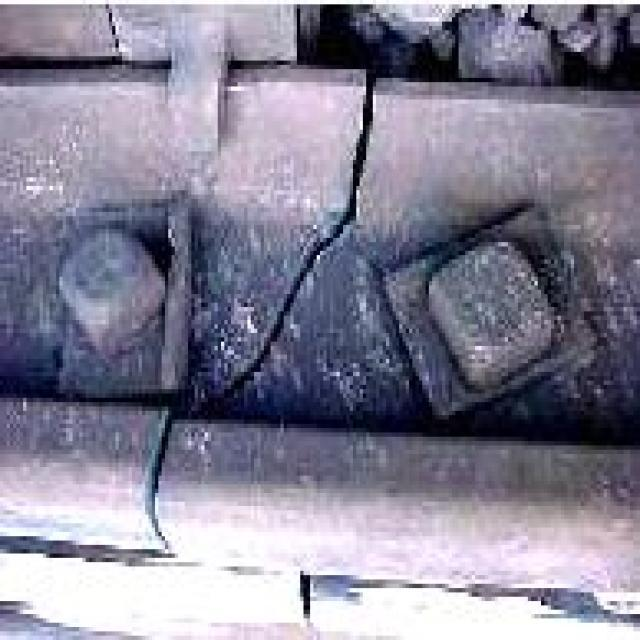broken_rail_high: (142, 68, 384, 576)
